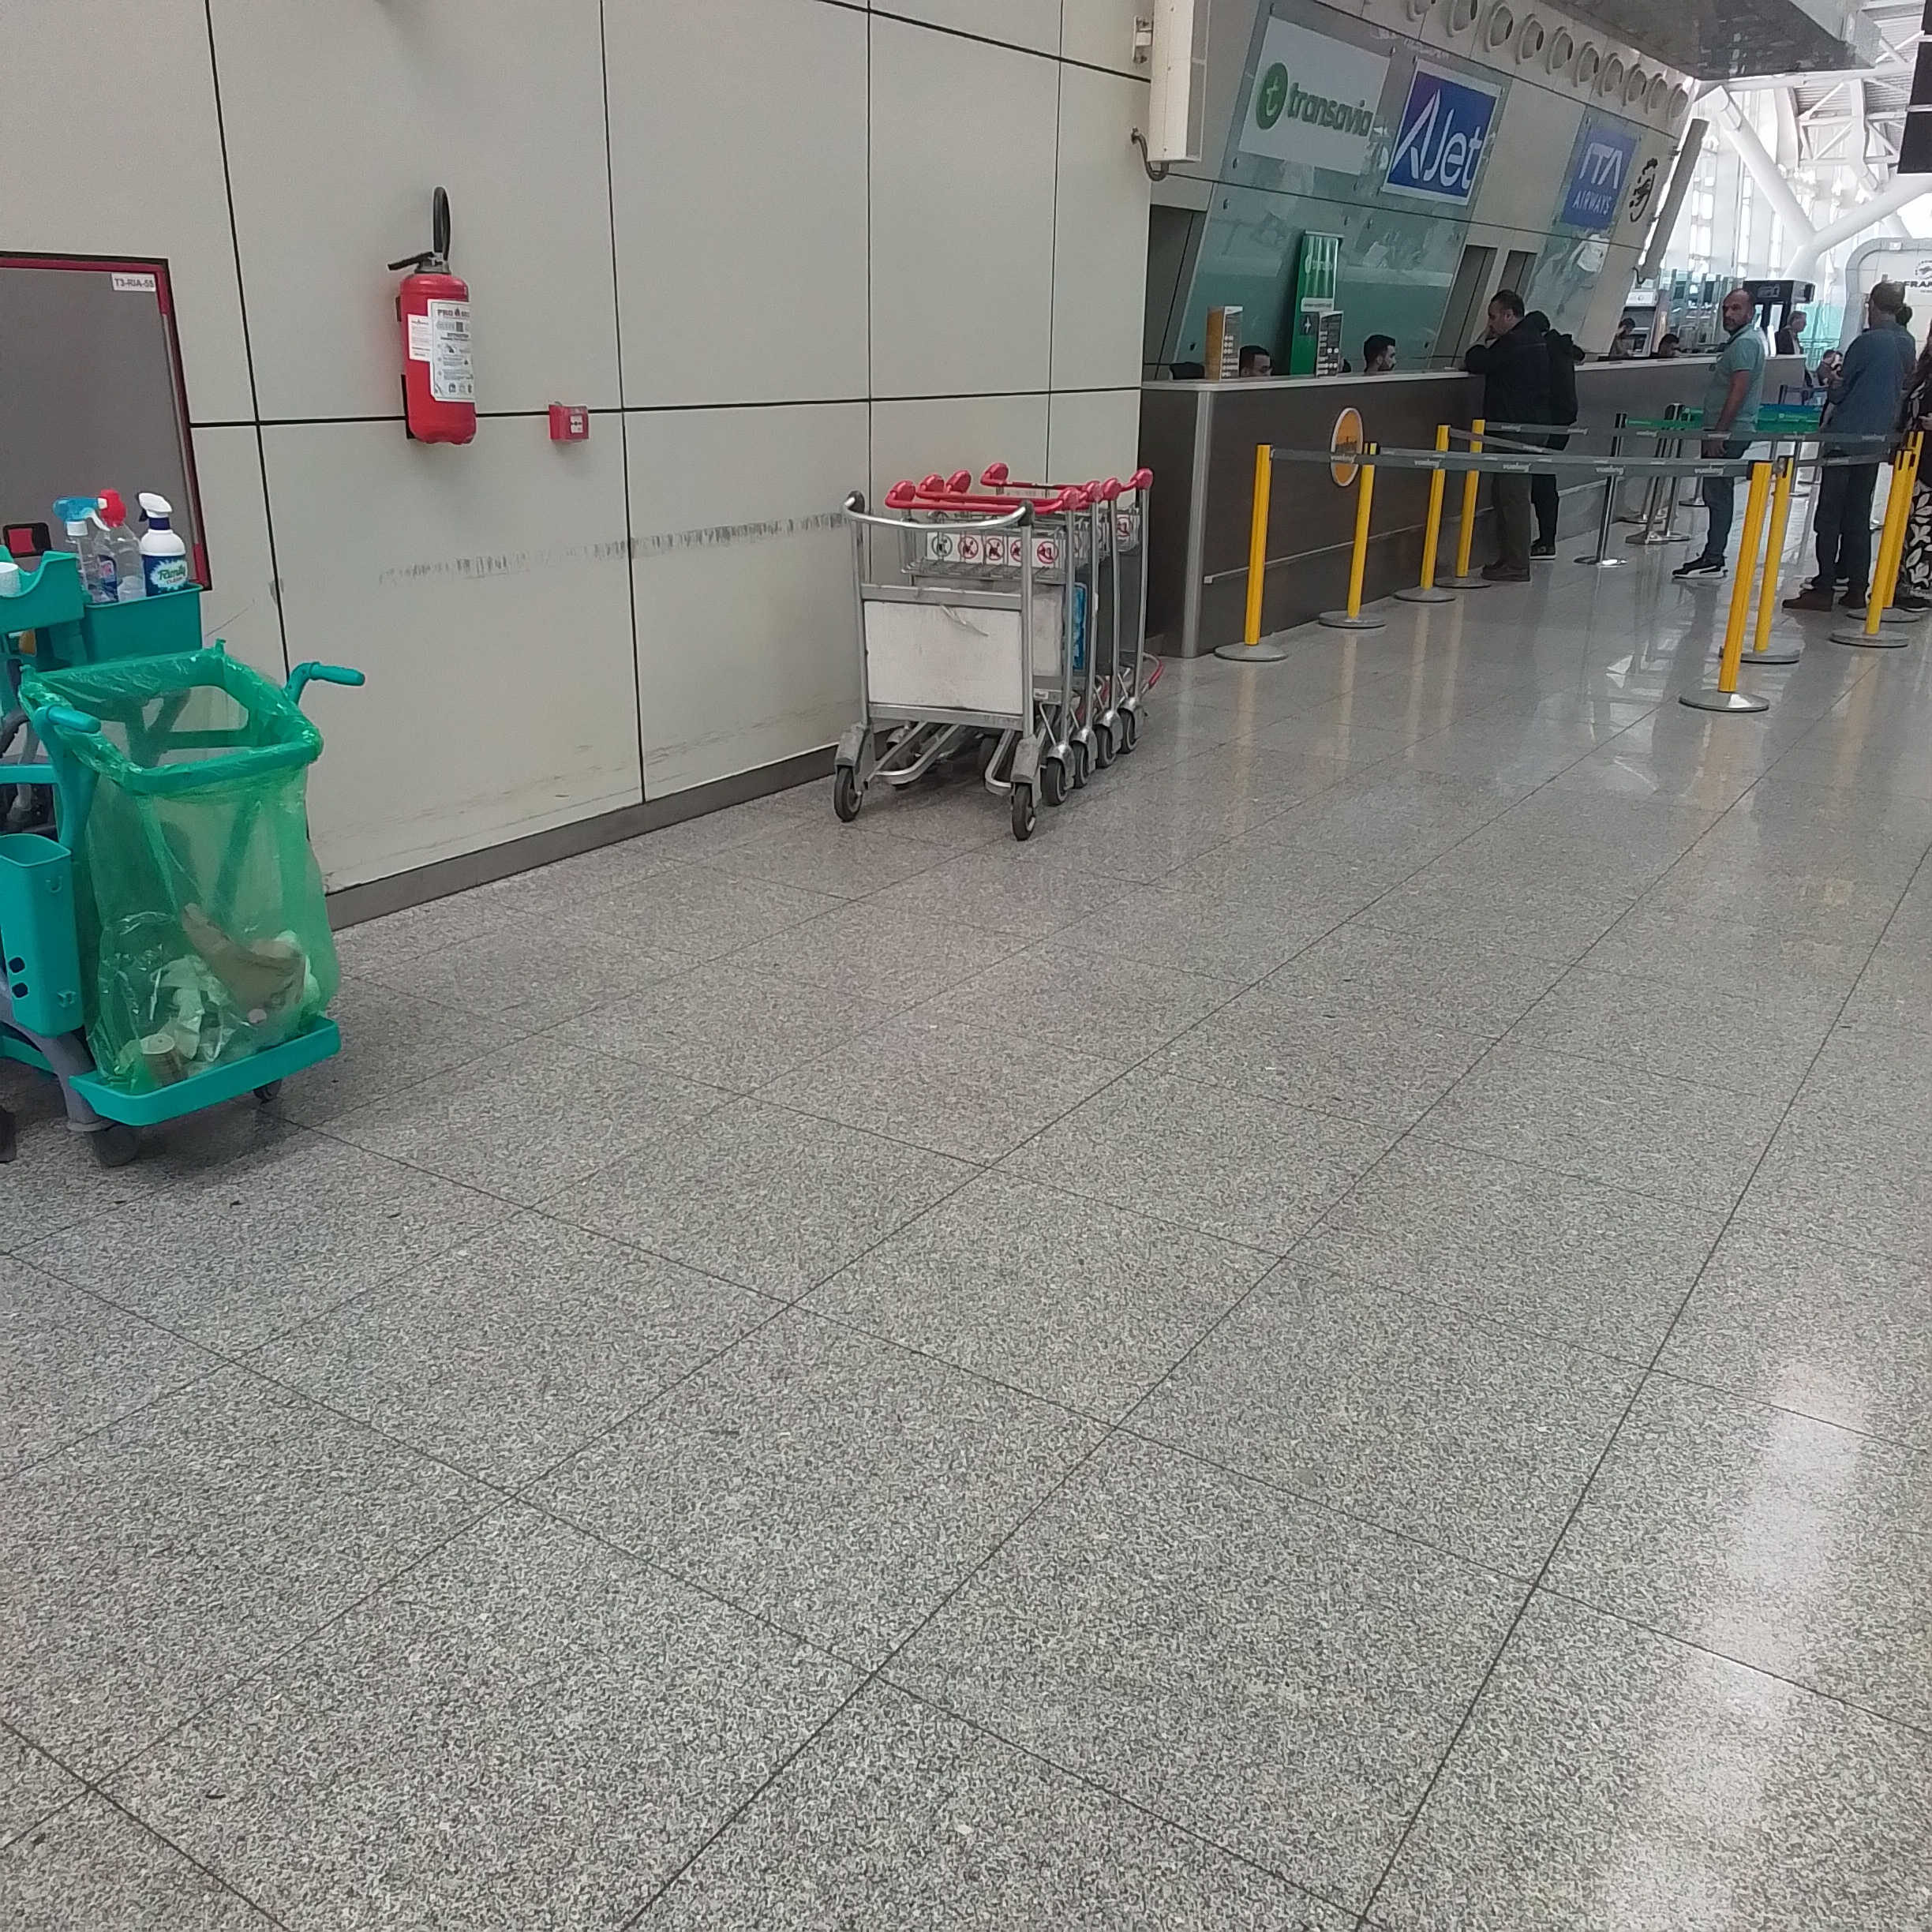airport-trolley: (855, 497, 1069, 819)
